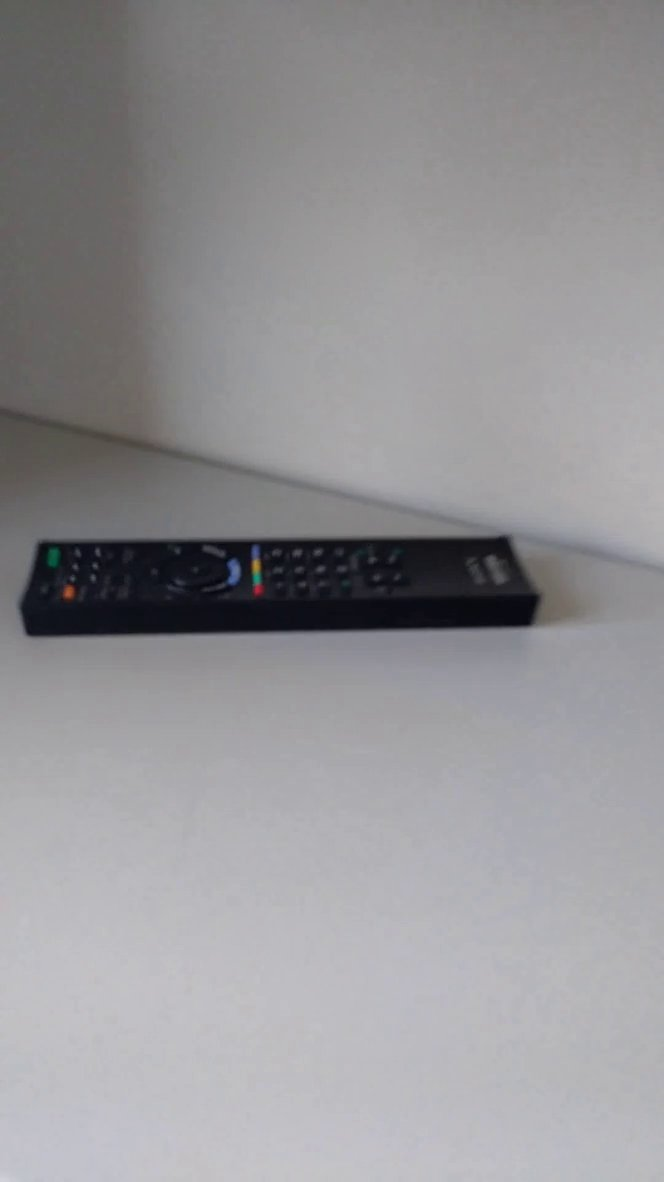remote: (4, 495, 554, 678)
